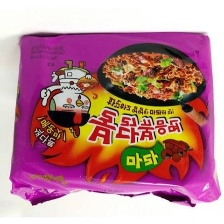snack: (0, 23, 224, 214)
